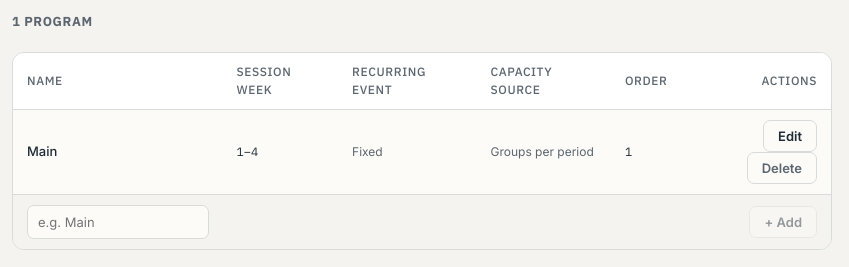
it: CohortsScreen › editing a cohort writes the changed fields and reloads
The width and height of the screenshot is (849, 267).
Check: the text "Main" is shown, box [13, 109, 223, 194]
Click the button "Edit" at [790, 136], box [763, 120, 817, 152]
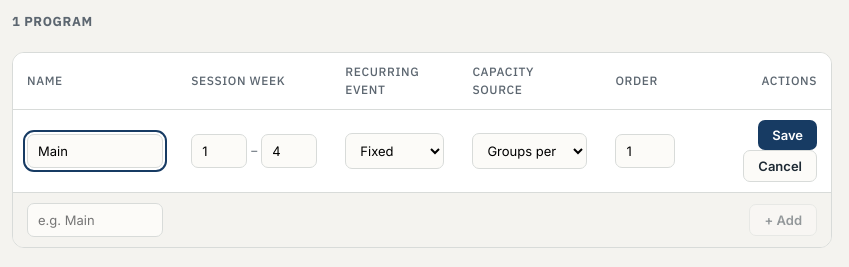
Replace the text in the field showing "Main" with "Renamed" at [95, 150], box [27, 134, 163, 168]
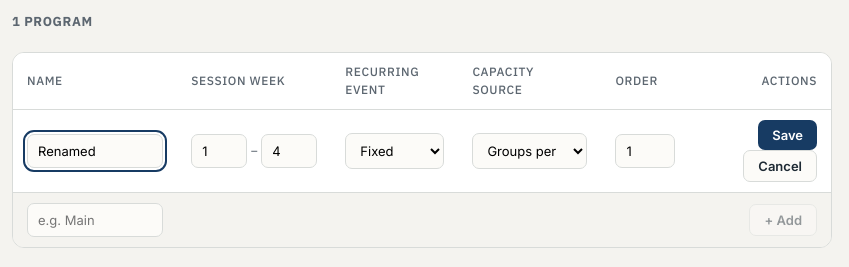
Click the button "Save" at [788, 134], box [758, 120, 817, 150]
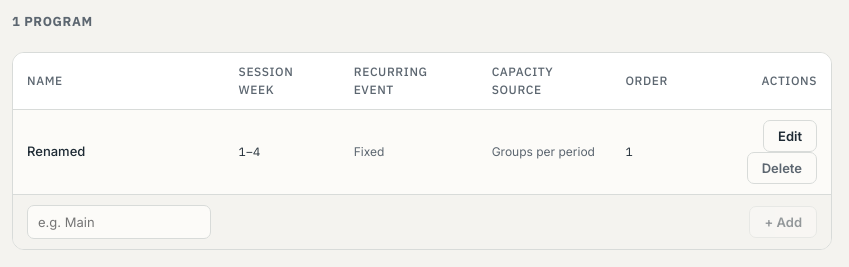
Check: the text "Renamed" is shown, box [13, 109, 225, 194]
